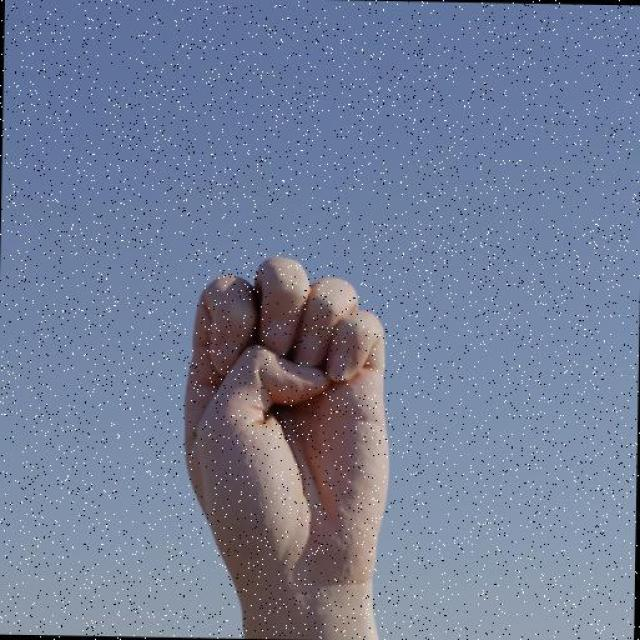E: (176, 249, 398, 593)
